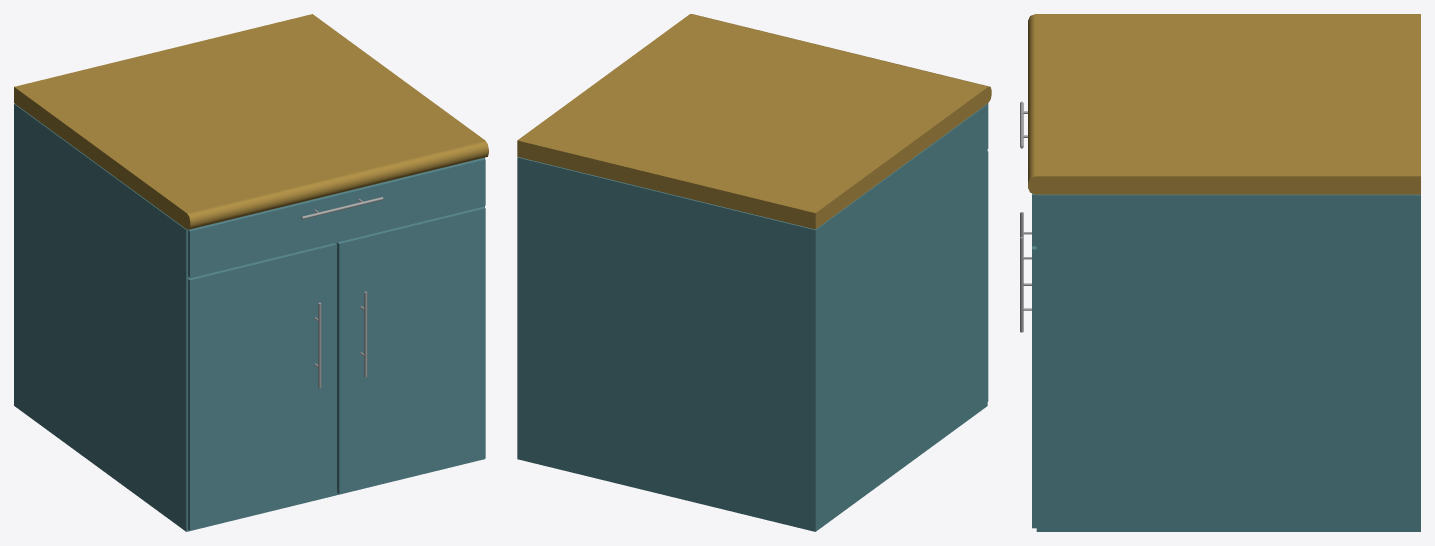
File: counter.fbx
The picture shows the model from 3 angles, left to right: view 1: azimuth 30°, elevation 25°; view 2: azimuth 150°, elevation 25°; view 3: azimuth 270°, elevation 25°; orthographic projection. The views are drawn at different scales.
Parts seen in each view (by area): view 1: counter; view 2: counter; view 3: counter.
Part boxes in pixels (x1=…): counter: x1=14, y1=14, x2=488, y2=531; counter: x1=517, y1=14, x2=991, y2=531; counter: x1=1020, y1=14, x2=1420, y2=531.
Bounding box in the file's own units: 100 × 104 × 102.
